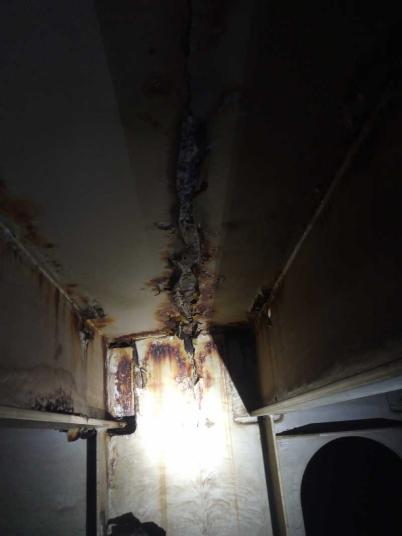corrosion: (156, 95, 224, 329), (141, 338, 231, 395), (96, 348, 144, 413), (60, 291, 106, 350), (25, 388, 72, 417)
